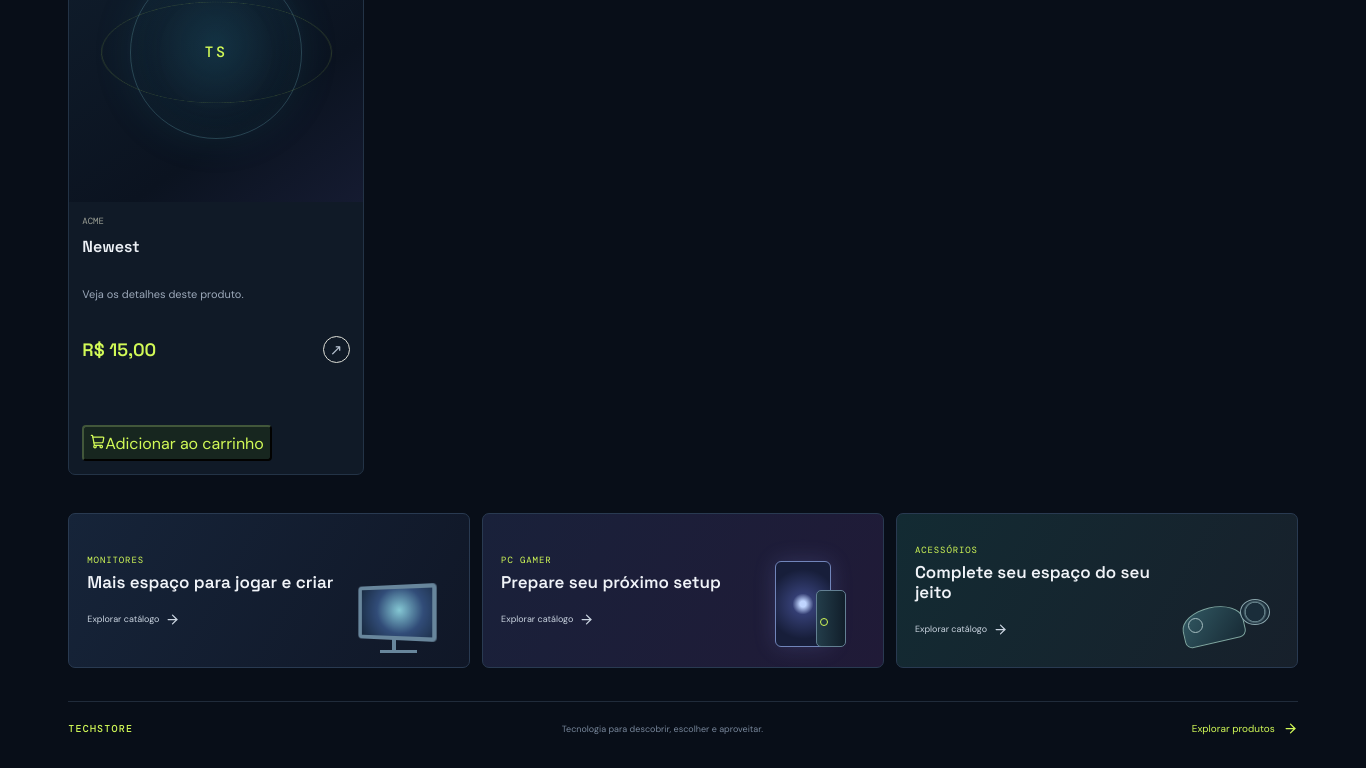
Test case: App cart navigation and badge › updates the header badge after a confirmed add initiated from a Home product card
(page scrolled)
Click the button with aria-label "Adicionar Newest ao carrinho": (177, 443) [82,425,272,461]
(page scrolled)
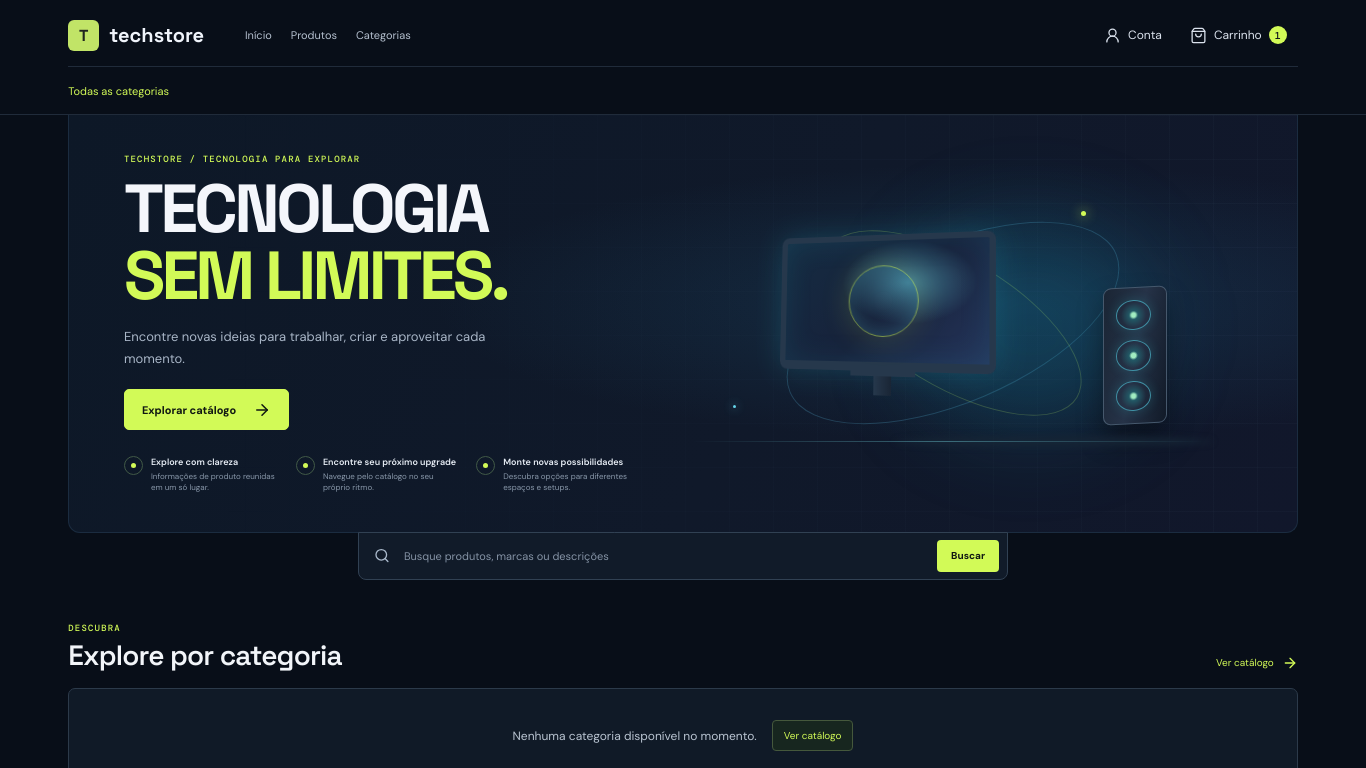
Expected: the link with aria-label "Carrinho, 1 unidade" is shown, [1190,26,1287,44]
